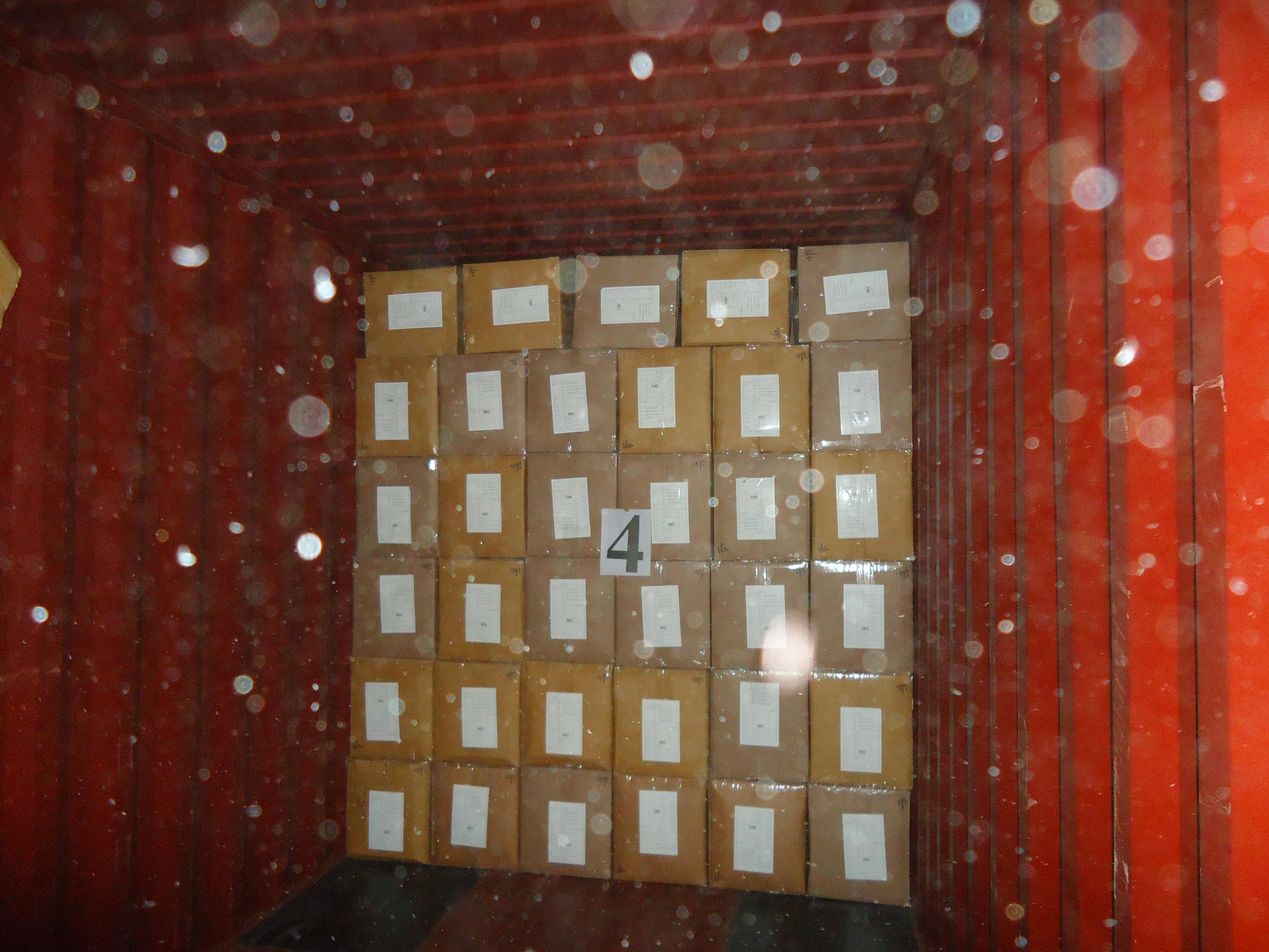carton: (808, 783, 911, 905), (809, 672, 913, 789), (706, 778, 808, 894), (809, 560, 913, 673), (810, 448, 913, 562), (708, 668, 810, 782), (797, 241, 911, 342), (809, 339, 912, 450), (710, 561, 812, 673), (711, 343, 810, 453), (680, 249, 791, 346), (612, 772, 707, 885), (712, 452, 810, 561), (613, 666, 708, 778), (615, 560, 711, 669), (519, 766, 612, 878), (519, 660, 613, 770), (617, 452, 712, 560), (460, 257, 566, 353), (618, 346, 712, 453), (523, 556, 616, 663), (573, 255, 679, 348), (525, 452, 618, 557), (525, 348, 618, 452), (430, 762, 519, 869), (432, 661, 521, 766), (438, 351, 527, 455), (438, 455, 526, 558), (437, 558, 524, 661), (346, 759, 430, 863), (352, 556, 437, 658), (364, 266, 459, 357), (350, 657, 433, 760), (355, 356, 439, 457), (355, 457, 439, 557)
